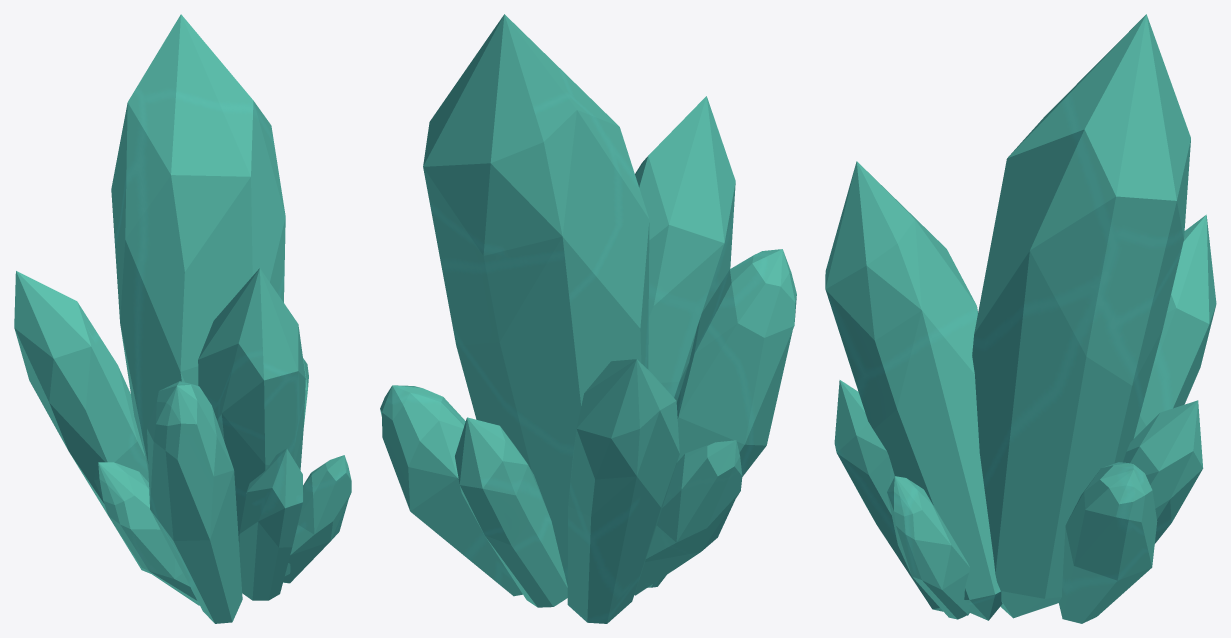
Rendered from Crystal_1.fbx.
3 views of the same model, side by side, from view 1: azimuth 30°, elevation 25°; view 2: azimuth 150°, elevation 25°; view 3: azimuth 270°, elevation 25° (orthographic). The views are drawn at different scales.
Parts seen in each view (by area): view 1: Crystal_1; view 2: Crystal_1; view 3: Crystal_1.
Part boxes in pixels (left/top/right/bottom): Crystal_1: left=14, top=14, right=351, bottom=623; Crystal_1: left=380, top=14, right=796, bottom=623; Crystal_1: left=825, top=14, right=1216, bottom=623.
Size of the model in its own units: 192 by 373 by 213.
